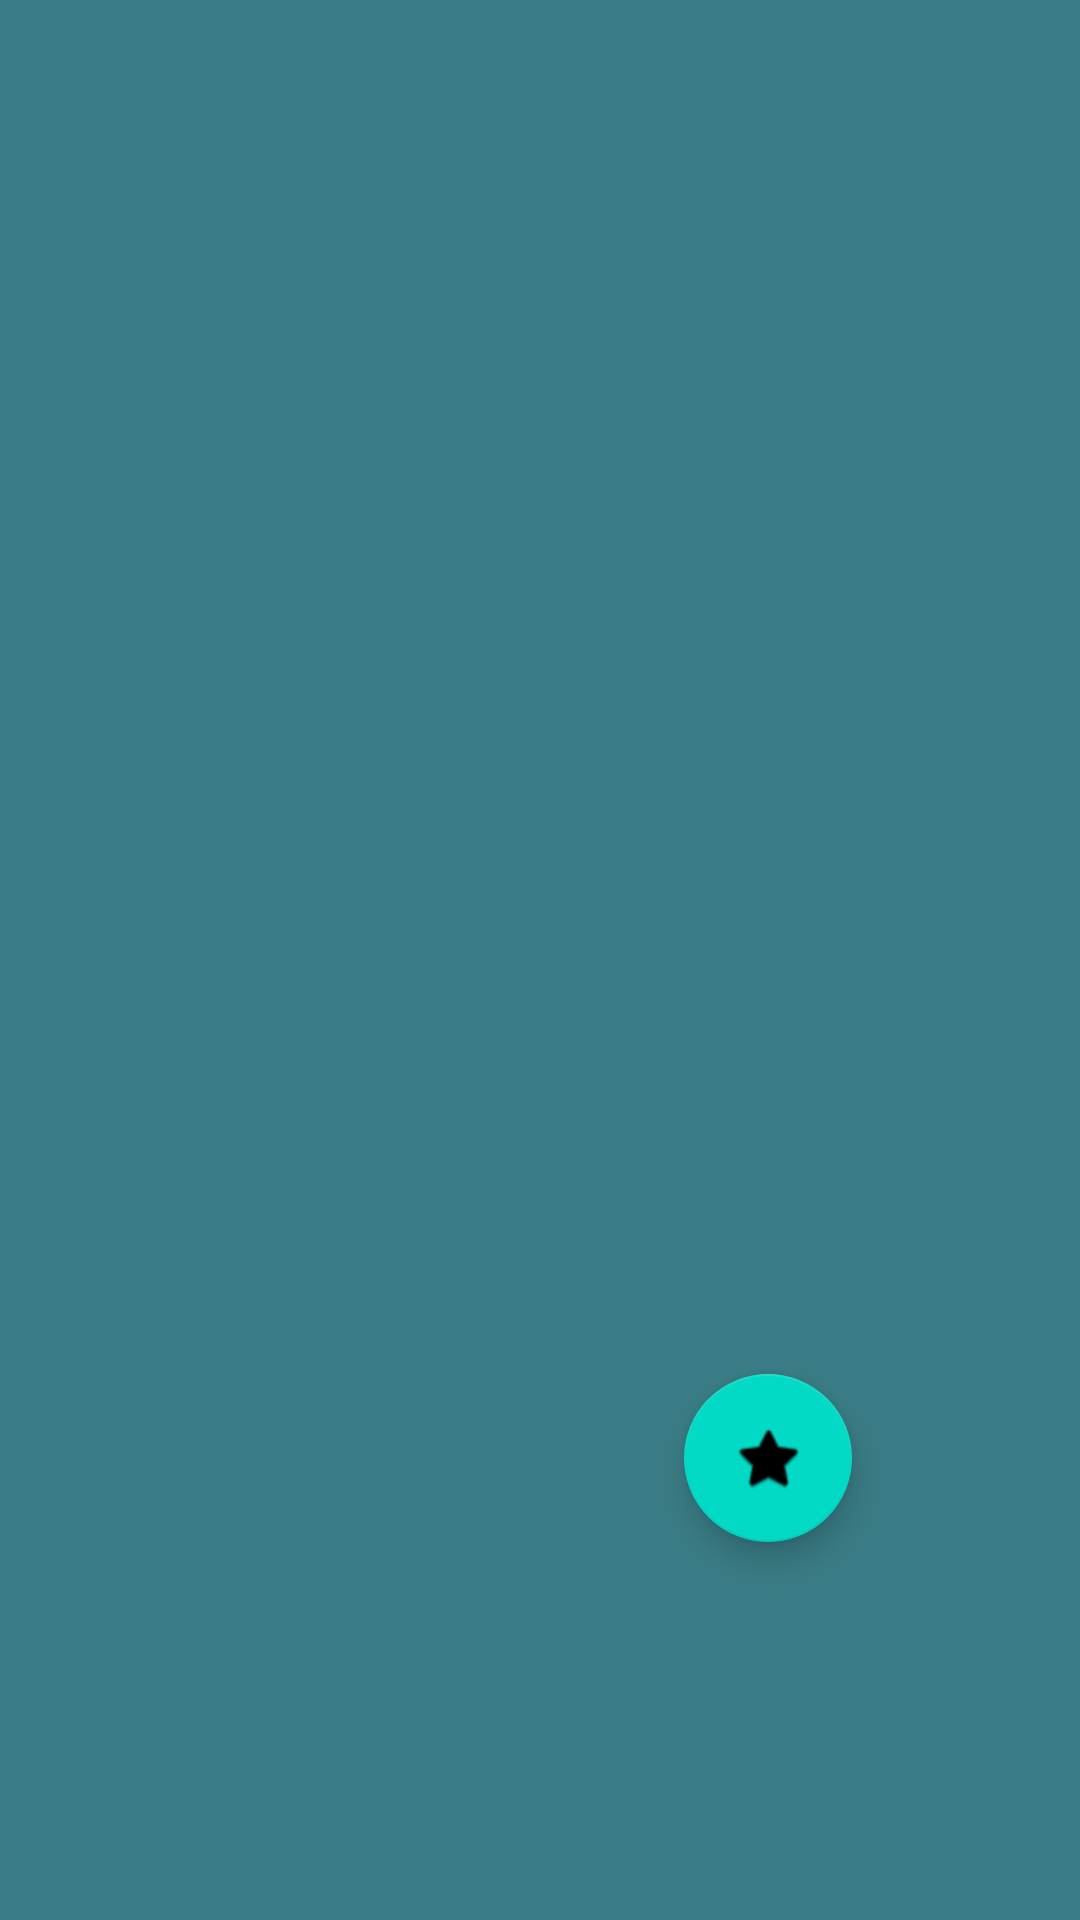

Screen size 1080*1920. Icon name, then its box in pixels as (x1, y1, x2, y2):
star on: (684, 1374, 852, 1542)
